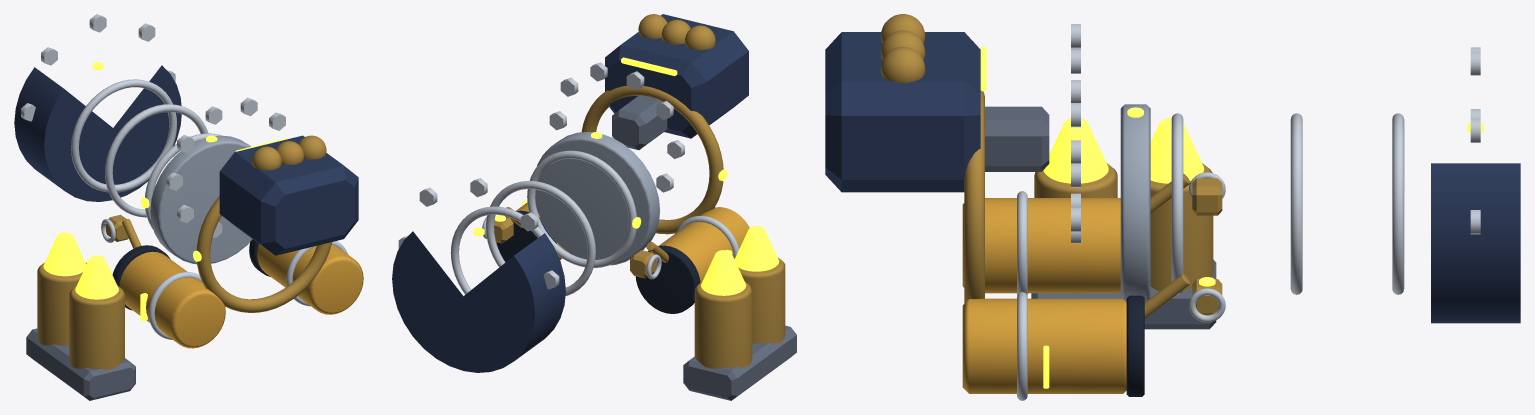
Rendered from tower_nova_damage_s9.glb.
3 views of the same model, side by side, from view 1: azimuth 30°, elevation 25°; view 2: azimuth 150°, elevation 25°; view 3: azimuth 270°, elevation 25° (orthographic). The views are drawn at different scales.
Parts seen in each view (by area): view 1: nova_brake_shroud, nova_cluster_hopper, nova_jacket_collar, nova_napalm_can_r, nova_heavy_shell-0.16, nova_napalm_can_l, nova_pressure_ring, nova_heavy_rack, nova_heavy_shell0.16, nova_tube_band1.36, nova_tube_band1.02, nova_jacket_bolts (+11 smaller); view 2: nova_brake_shroud, nova_jacket_collar, nova_cluster_hopper, nova_heavy_shell0.16, nova_pressure_ring, nova_heavy_rack, nova_napalm_can_r, nova_heavy_shell-0.16, nova_napalm_cap_r, nova_tube_band0.62, nova_tube_band1.02, nova_cluster_feed (+13 smaller); view 3: nova_cluster_hopper, nova_napalm_can_l, nova_brake_shroud, nova_napalm_can_r, nova_jacket_collar, nova_heavy_shell0.16, nova_cluster_feed, nova_pressure_ring, nova_heavy_shell_fuse-0.16, nova_tube_band1.02, nova_tube_band1.36, nova_heavy_rack (+15 smaller).
Part boxes in pixels (box(x1,y1,x2,y2)): nova_brake_shroud: box(14, 65, 181, 201); nova_cluster_hopper: box(219, 135, 358, 255); nova_jacket_collar: box(150, 135, 252, 264); nova_napalm_can_r: box(119, 251, 225, 348); nova_heavy_shell-0.16: box(69, 286, 124, 369); nova_napalm_can_l: box(257, 244, 363, 314); nova_pressure_ring: box(196, 196, 332, 312); nova_heavy_rack: box(26, 328, 135, 400); nova_heavy_shell0.16: box(37, 262, 86, 345); nova_tube_band1.36: box(71, 79, 176, 192); nova_tube_band1.02: box(105, 104, 208, 217); nova_jacket_bolts: box(166, 97, 285, 237); nova_brake_shroud: box(392, 231, 565, 372); nova_jacket_collar: box(535, 132, 659, 265); nova_cluster_hopper: box(605, 14, 748, 138); nova_heavy_shell0.16: box(694, 281, 752, 368); nova_pressure_ring: box(581, 85, 723, 234); nova_heavy_rack: box(683, 325, 796, 400); nova_napalm_can_r: box(659, 207, 749, 282); nova_heavy_shell-0.16: box(734, 257, 785, 343); nova_napalm_cap_r: box(635, 245, 700, 313); nova_tube_band0.62: box(527, 150, 636, 267); nova_tube_band1.02: box(486, 181, 595, 296); nova_cluster_feed: box(612, 95, 667, 150); nova_cluster_hopper: box(825, 32, 980, 192); nova_napalm_can_l: box(962, 298, 1126, 393); nova_brake_shroud: box(1431, 163, 1520, 323); nova_napalm_can_r: box(962, 198, 1120, 293); nova_jacket_collar: box(1120, 104, 1150, 302); nova_heavy_shell0.16: box(1150, 163, 1213, 291); nova_cluster_feed: box(985, 106, 1049, 171); nova_pressure_ring: box(964, 90, 984, 303); nova_heavy_shell_fuse-0.16: box(1043, 118, 1108, 183); nova_tube_band1.02: box(1290, 113, 1302, 294); nova_tube_band1.36: box(1392, 113, 1404, 294); nova_heavy_rack: box(1031, 259, 1216, 329).
Bounding box in the file's own units: 1.52 × 1.41 × 2.33.
